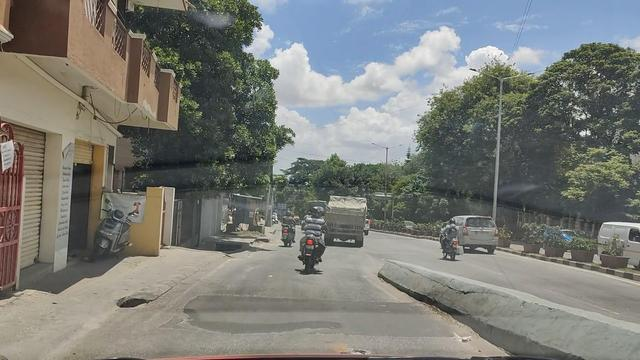HMV: (315, 187, 369, 245)
LMV: (88, 195, 138, 268)
RoadDamages: (109, 288, 159, 318), (333, 339, 373, 360)
